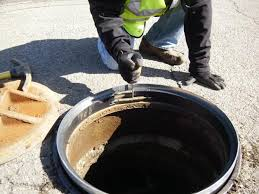Manhole-Open: (41, 76, 250, 194)
human: (84, 1, 250, 88)
